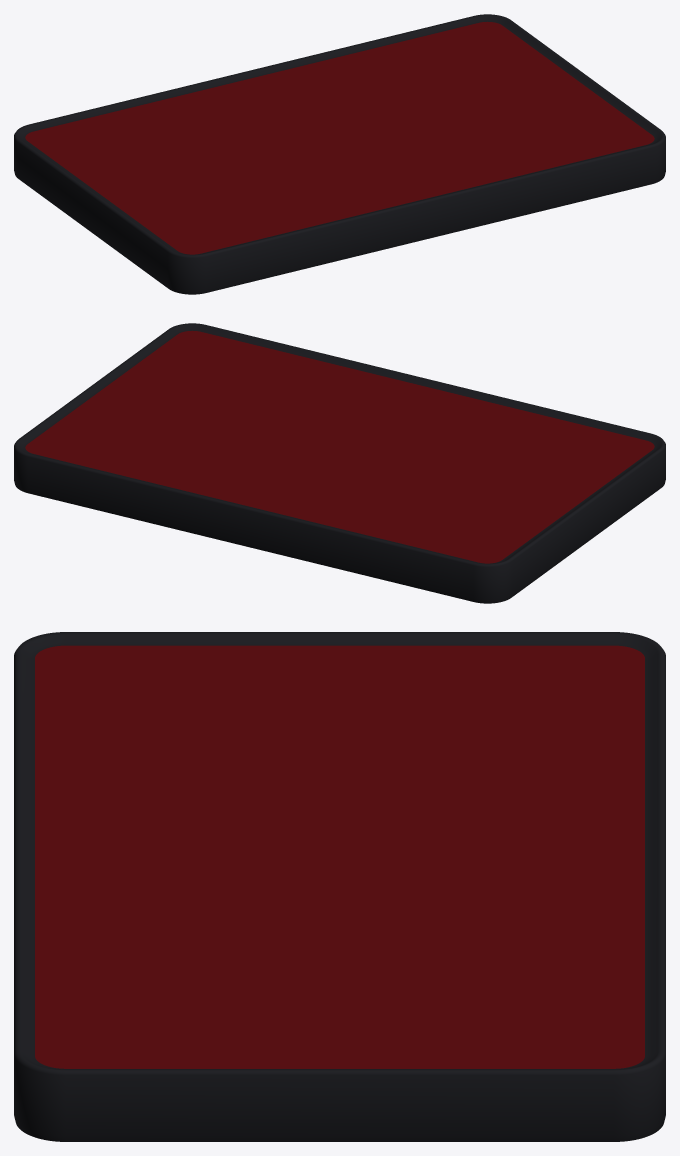
The model's file is rear-reflector-30201069-visible-v2.glb.
3 renders of one model, top to bottom at view 1: azimuth 30°, elevation 25°; view 2: azimuth 150°, elevation 25°; view 3: azimuth 270°, elevation 25°, orthographic. The views are drawn at different scales.
Visible parts, largest first — view 1: EXTERIOR_CHILD; view 2: EXTERIOR_CHILD; view 3: EXTERIOR_CHILD.
Boxes of the visible parts, x1,y1,x2,y2 form: EXTERIOR_CHILD: (14, 14, 665, 294); EXTERIOR_CHILD: (14, 323, 665, 603); EXTERIOR_CHILD: (14, 632, 665, 1141).
Size of the model in its own units: 0.08 by 0.006 by 0.05.
